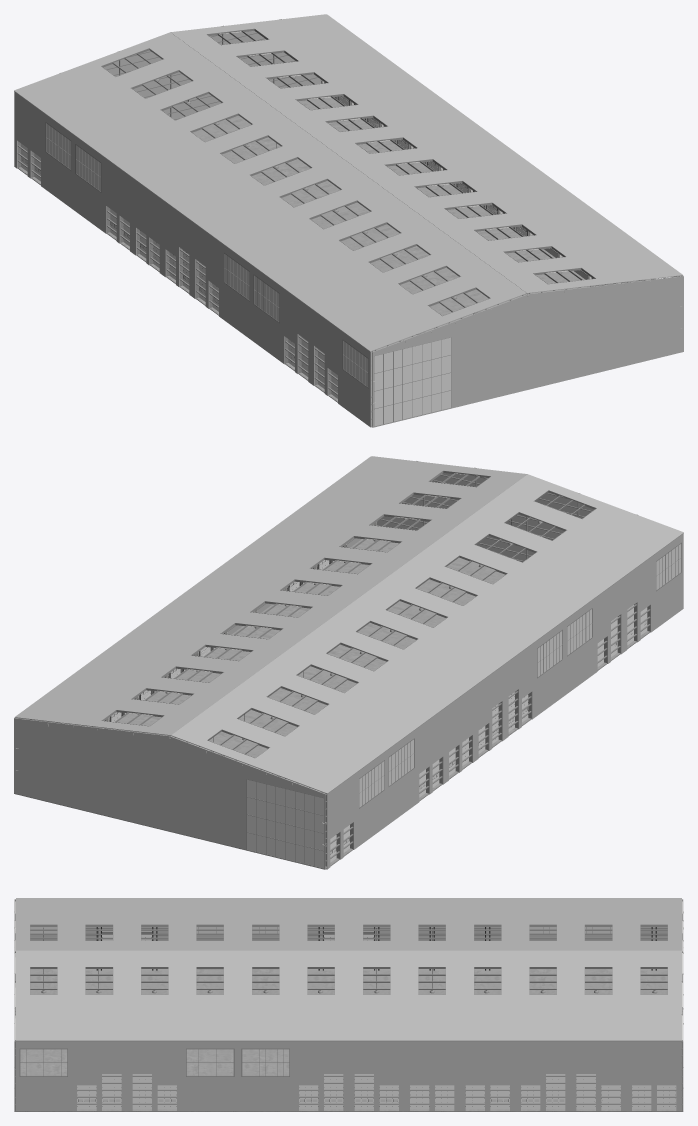
File: Factory.fbx
3 views of the same model, one above another, from view 1: azimuth 30°, elevation 25°; view 2: azimuth 150°, elevation 25°; view 3: azimuth 270°, elevation 25° (orthographic). The views are drawn at different scales.
Visible parts, largest first — view 1: 两侧大墙, 地面, 棚顶, 棚顶.002, 棚顶.008, 棚顶.009, 棚顶.007, 棚顶.011, 棚顶.001, 棚顶.003, 棚顶.005, 棚顶.006 (+15 smaller); view 2: 两侧大墙.001, 地面, 棚顶.011, 棚顶.005, 棚顶, 棚顶.001, 棚顶.002, 棚顶.004, 棚顶.006, 棚顶.007, 棚顶.010, 棚顶.003 (+15 smaller); view 3: 地面, 棚顶, 棚顶.001, 棚顶.004, 棚顶.005, 棚顶.009, 棚顶.011, 棚顶.002, 棚顶.006, 棚顶.007, 棚顶.008, 棚顶.003 (+22 smaller).
Boxes of the visible parts, bbox=[...] form: 两侧大墙: bbox=[371, 275, 683, 427]; 地面: bbox=[18, 97, 589, 427]; 棚顶: bbox=[341, 253, 683, 351]; 棚顶.002: bbox=[251, 188, 593, 286]; 棚顶.008: bbox=[103, 79, 444, 177]; 棚顶.009: bbox=[73, 57, 415, 155]; 棚顶.007: bbox=[162, 123, 504, 221]; 棚顶.011: bbox=[14, 14, 355, 112]; 棚顶.001: bbox=[133, 101, 474, 199]; 棚顶.003: bbox=[311, 231, 652, 329]; 棚顶.005: bbox=[222, 166, 563, 264]; 棚顶.006: bbox=[192, 144, 534, 242]; 两侧大墙.001: bbox=[14, 718, 326, 868]; 地面: bbox=[14, 539, 649, 869]; 棚顶.011: bbox=[14, 695, 356, 793]; 棚顶.005: bbox=[223, 543, 564, 641]; 棚顶: bbox=[341, 456, 683, 554]; 棚顶.001: bbox=[133, 608, 475, 706]; 棚顶.002: bbox=[252, 521, 594, 619]; 棚顶.004: bbox=[282, 499, 624, 597]; 棚顶.006: bbox=[193, 565, 535, 663]; 棚顶.007: bbox=[163, 586, 505, 684]; 棚顶.010: bbox=[45, 673, 386, 771]; 棚顶.003: bbox=[312, 478, 654, 575]; 地面: bbox=[14, 969, 683, 1111]; 棚顶: bbox=[16, 898, 71, 1041]; 棚顶.001: bbox=[404, 898, 459, 1041]; 棚顶.004: bbox=[127, 898, 182, 1041]; 棚顶.005: bbox=[238, 898, 293, 1041]; 棚顶.009: bbox=[515, 898, 570, 1041]; 棚顶.011: bbox=[626, 898, 681, 1041]; 棚顶.002: bbox=[182, 898, 237, 1041]; 棚顶.006: bbox=[293, 898, 348, 1041]; 棚顶.007: bbox=[349, 898, 404, 1041]; 棚顶.008: bbox=[460, 898, 515, 1041]; 棚顶.003: bbox=[71, 898, 126, 1041].
Bounding box in the file's own units: 2628 × 772 × 5217.
Materials: 8 (1 with a texture image).
